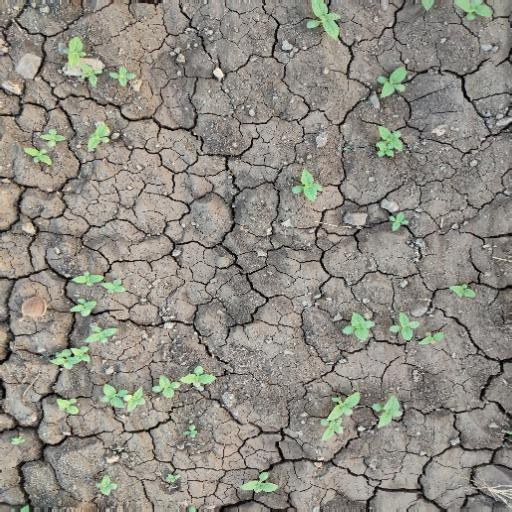crop: (33, 264, 130, 373), (302, 387, 411, 439), (60, 36, 140, 90), (151, 359, 225, 407), (387, 307, 445, 350), (299, 1, 351, 47), (96, 380, 148, 420), (25, 123, 65, 170), (287, 164, 326, 206), (368, 123, 406, 163), (374, 64, 408, 102), (340, 308, 376, 343), (385, 209, 412, 236)
